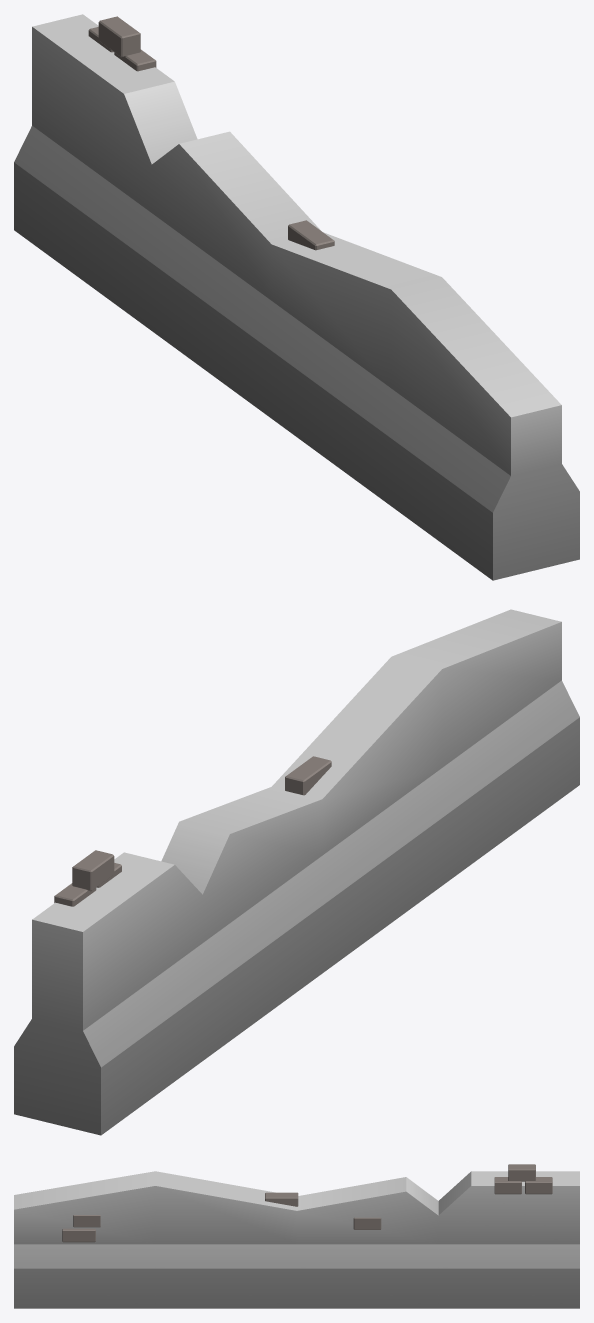
The model's file is [OBJ]Muro_Ruina.fbx.
The picture shows the model from 3 angles, top to bottom: view 1: azimuth 30°, elevation 25°; view 2: azimuth 150°, elevation 25°; view 3: azimuth 270°, elevation 25°; orthographic projection. The views are drawn at different scales.
Visible parts, largest first — view 1: [OBJ]Muro_Ruina; view 2: [OBJ]Muro_Ruina; view 3: [OBJ]Muro_Ruina.
Part boxes in pixels (left/top/right/bottom): [OBJ]Muro_Ruina: left=14, top=14, right=579, bottom=580; [OBJ]Muro_Ruina: left=14, top=609, right=579, bottom=1135; [OBJ]Muro_Ruina: left=14, top=1164, right=579, bottom=1308.
Size of the model in its own units: 42.01 by 104 by 400.
